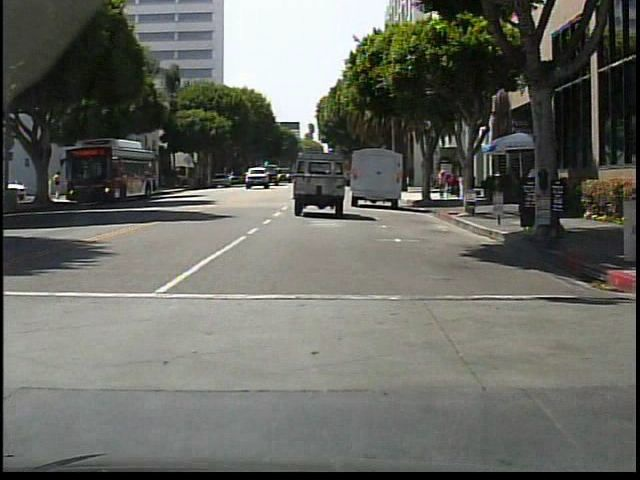person: (427, 167, 436, 201), (437, 170, 447, 199), (55, 172, 64, 200)
